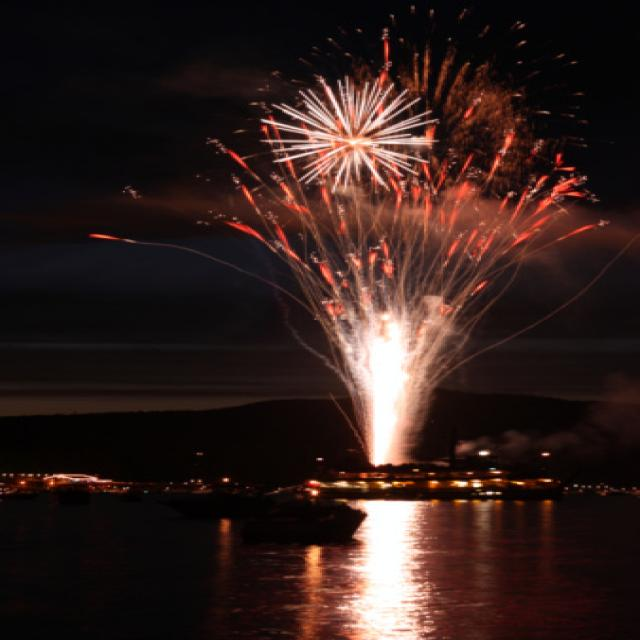Boat: (184, 450, 385, 549)
